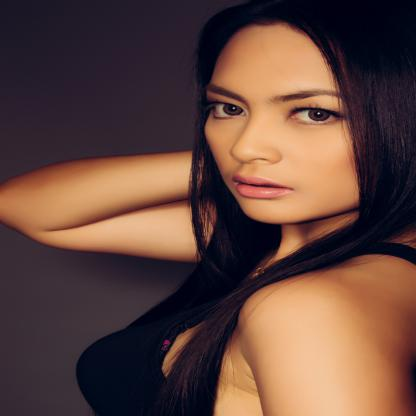Eye: (281, 101, 352, 129), (196, 96, 252, 124)
Mouth: (230, 171, 300, 203)
Nose: (224, 116, 286, 166)
